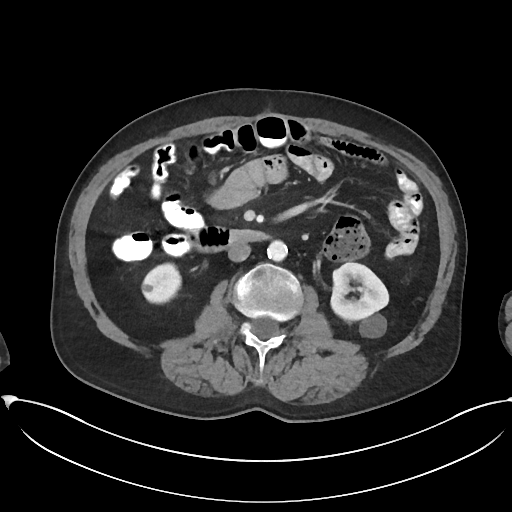Lesion: (139, 281, 153, 297)
